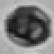correct: (4, 4, 52, 48)
